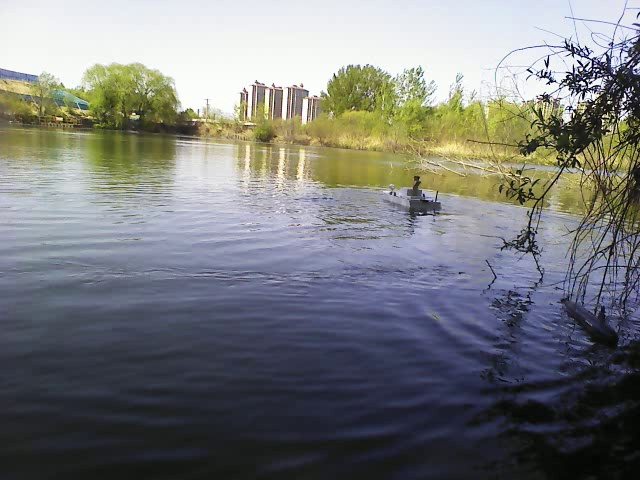boat: (373, 173, 445, 220)
